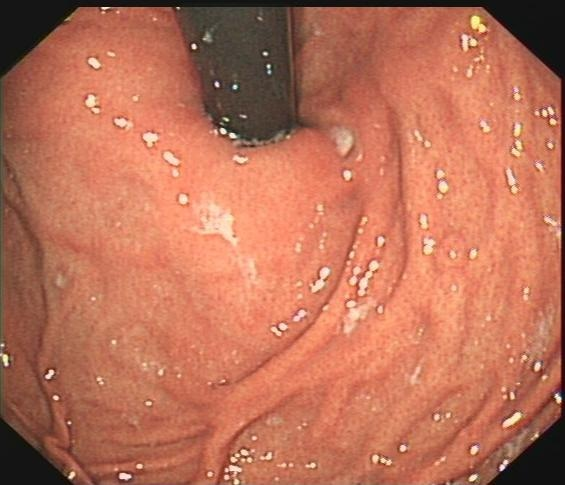Polyp: (430, 232, 480, 286)
